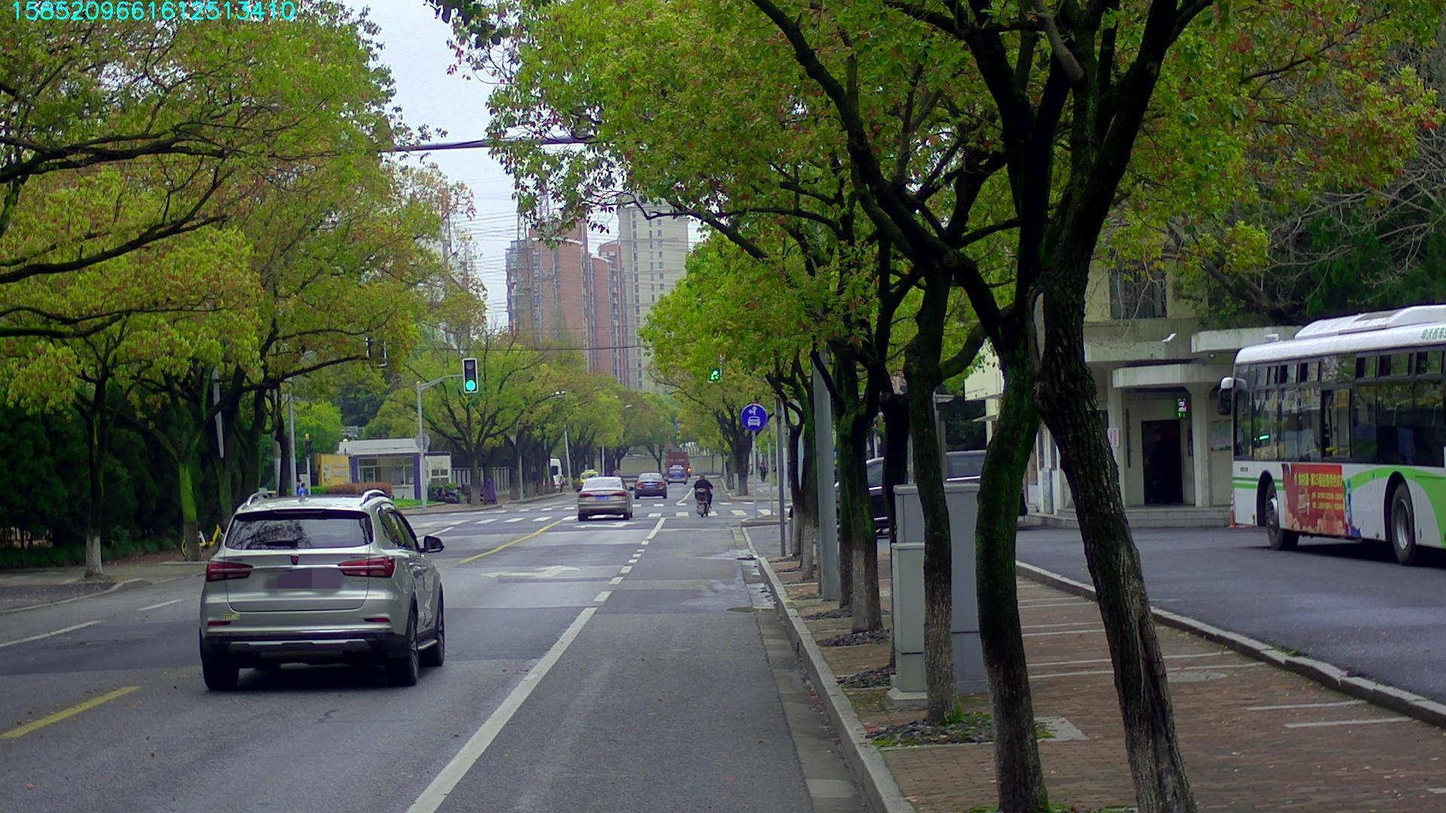green: (708, 346, 721, 382), (463, 358, 477, 391)
